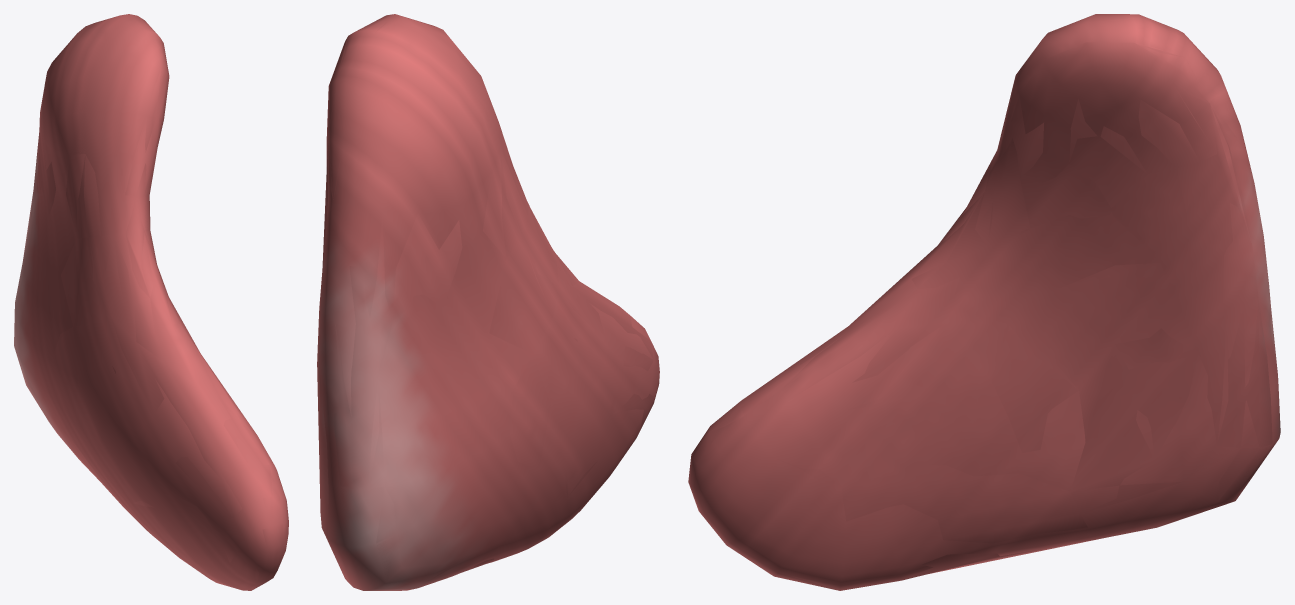
File: Наружный аддуктор нижней челюсти R.fbx
The picture shows the model from 3 angles, left to right: view 1: azimuth 30°, elevation 25°; view 2: azimuth 150°, elevation 25°; view 3: azimuth 270°, elevation 25°; orthographic projection. The views are drawn at different scales.
Visible parts, largest first — view 1: Наружный аддуктор нижней челюсти R, Наружный аддуктор нижней челюсти R low; view 2: Наружный аддуктор нижней челюсти R, Наружный аддуктор нижней челюсти R low; view 3: Наружный аддуктор нижней челюсти R, Наружный аддуктор нижней челюсти R low.
Boxes of the visible parts, x1,y1,x2,y2 form: Наружный аддуктор нижней челюсти R: [14, 14, 288, 590]; Наружный аддуктор нижней челюсти R low: [14, 17, 273, 590]; Наружный аддуктор нижней челюсти R: [317, 14, 659, 590]; Наружный аддуктор нижней челюсти R low: [317, 15, 654, 586]; Наружный аддуктор нижней челюсти R: [688, 14, 1280, 590]; Наружный аддуктор нижней челюсти R low: [692, 18, 1278, 590].
Bounding box in the file's own units: 0.0486 × 0.1835 × 0.1691.
Materials: 1 (1 with a texture image).
